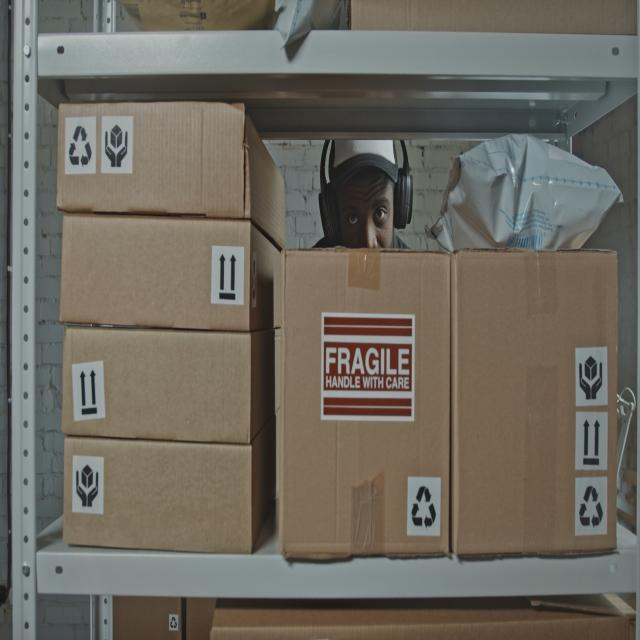counting-the-number-of-boxes: (282, 252, 449, 560), (450, 250, 618, 556), (57, 100, 285, 252), (62, 411, 280, 552), (63, 328, 282, 444), (60, 219, 283, 331)
